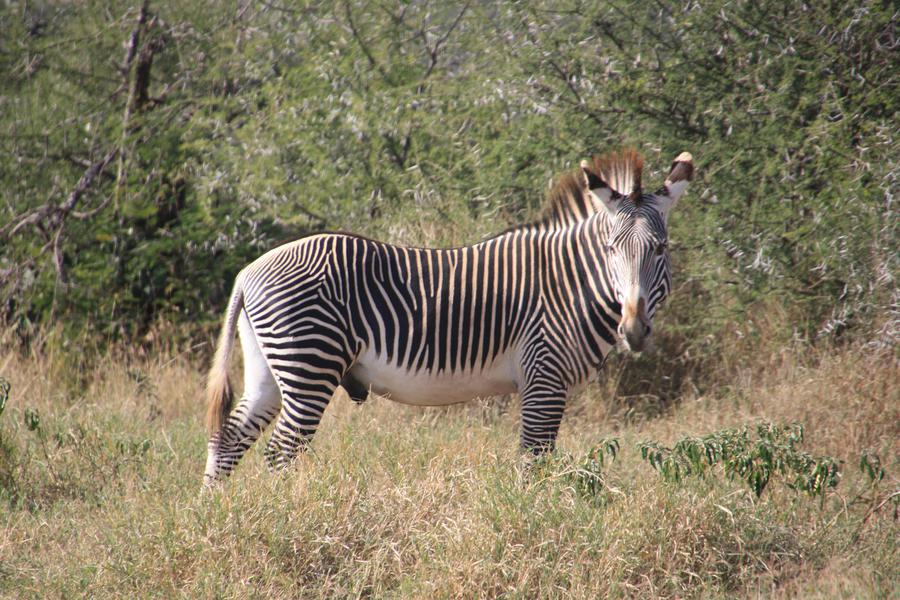zebra_grevys: (230, 225, 582, 388)
